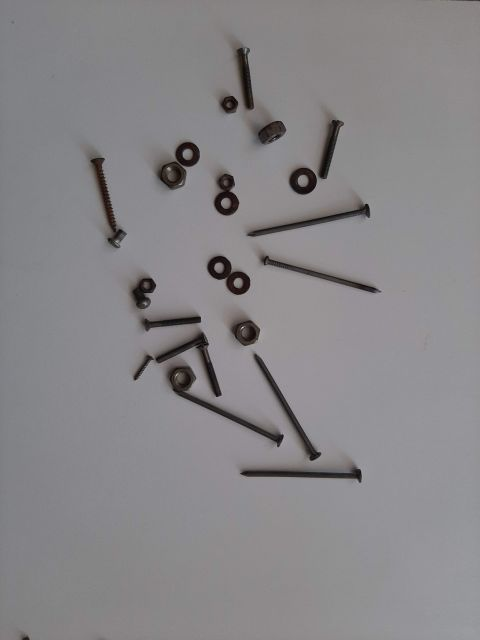gwozdz: (155, 365, 295, 455), (235, 335, 325, 455), (235, 175, 385, 245), (245, 245, 385, 305), (215, 445, 365, 495)
nakretka: (215, 305, 265, 355), (135, 155, 185, 205)
podkladka: (155, 125, 205, 175), (275, 155, 325, 205), (185, 235, 235, 275), (215, 265, 245, 305), (205, 185, 245, 215)
sruba: (305, 95, 355, 185), (215, 35, 275, 105), (175, 325, 235, 385), (125, 325, 215, 365), (125, 305, 215, 325)
